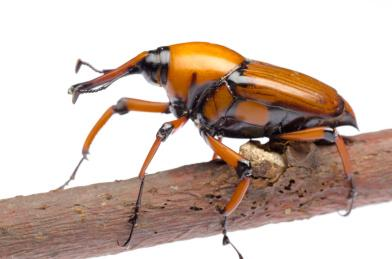Curculionidae: (47, 41, 358, 259)
